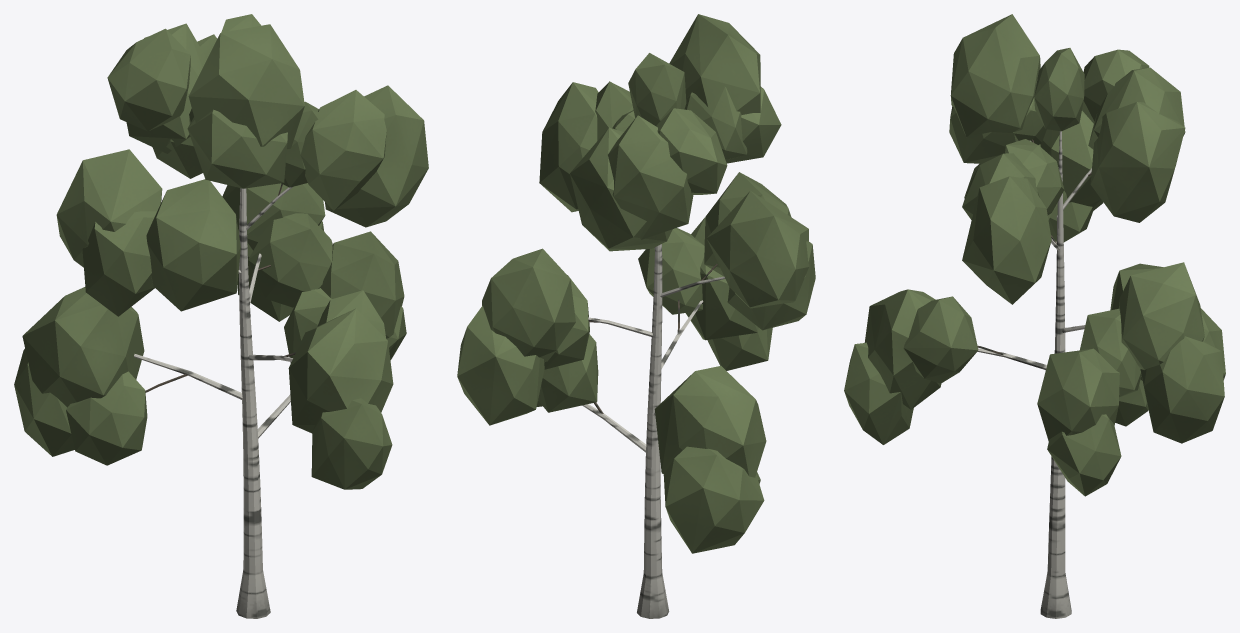
The model's file is forest_birch_tree_A.glb.
3 renders of one model, left to right at view 1: azimuth 30°, elevation 25°; view 2: azimuth 150°, elevation 25°; view 3: azimuth 270°, elevation 25°, orthographic. The views are drawn at different scales.
Visible parts, largest first — view 1: Foliage, Bark; view 2: Foliage, Bark; view 3: Foliage, Bark.
Part boxes in pixels (bbox=[...]): Foliage: bbox=[14, 14, 428, 489]; Bark: bbox=[134, 184, 295, 618]; Foliage: bbox=[457, 14, 815, 553]; Bark: bbox=[582, 244, 725, 618]; Foliage: bbox=[844, 14, 1225, 496]; Bark: bbox=[977, 131, 1091, 618].
Size of what is drawn, in the model's own units: 5.04 by 8.72 by 5.23.
Materials: 1 (1 with a texture image).
